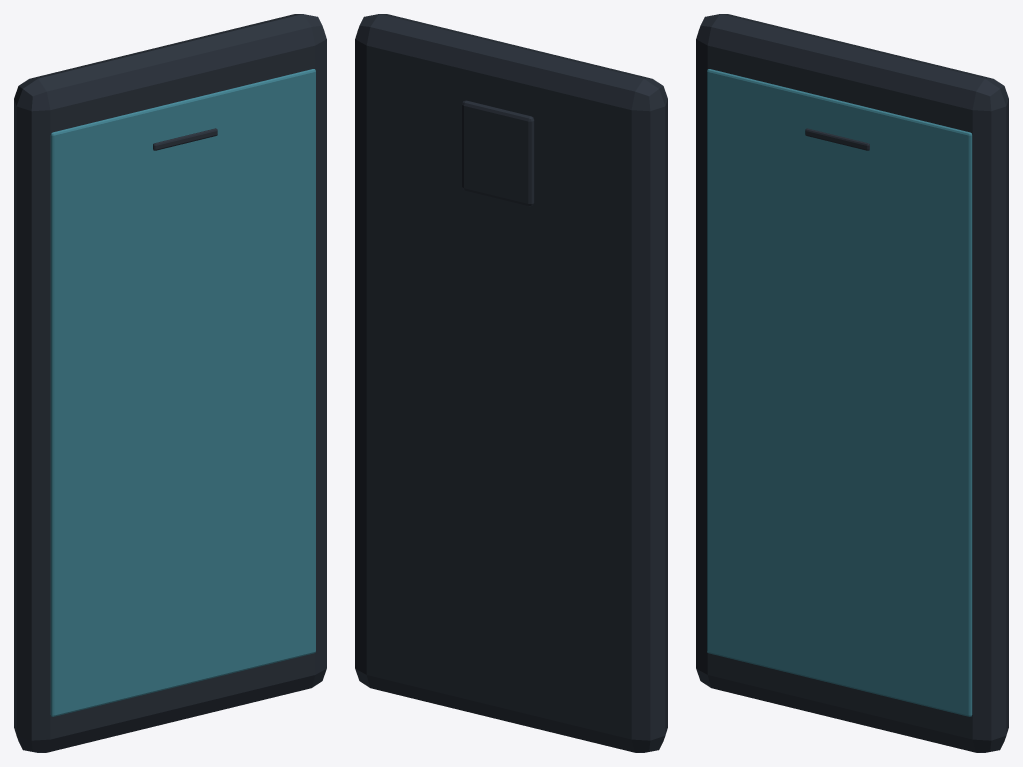
The model's file is phone.glb.
3 renders of one model, left to right at view 1: azimuth 30°, elevation 25°; view 2: azimuth 150°, elevation 25°; view 3: azimuth 330°, elevation 25°, orthographic.
Visible parts, largest first — view 1: Prop_phone; view 2: Prop_phone; view 3: Prop_phone.
Boxes of the visible parts, x1=… form: Prop_phone: x1=14, y1=14, x2=326, y2=752; Prop_phone: x1=355, y1=14, x2=667, y2=752; Prop_phone: x1=696, y1=14, x2=1008, y2=752.
Bounding box in the file's own units: 0.0538 × 0.1125 × 0.00944.
